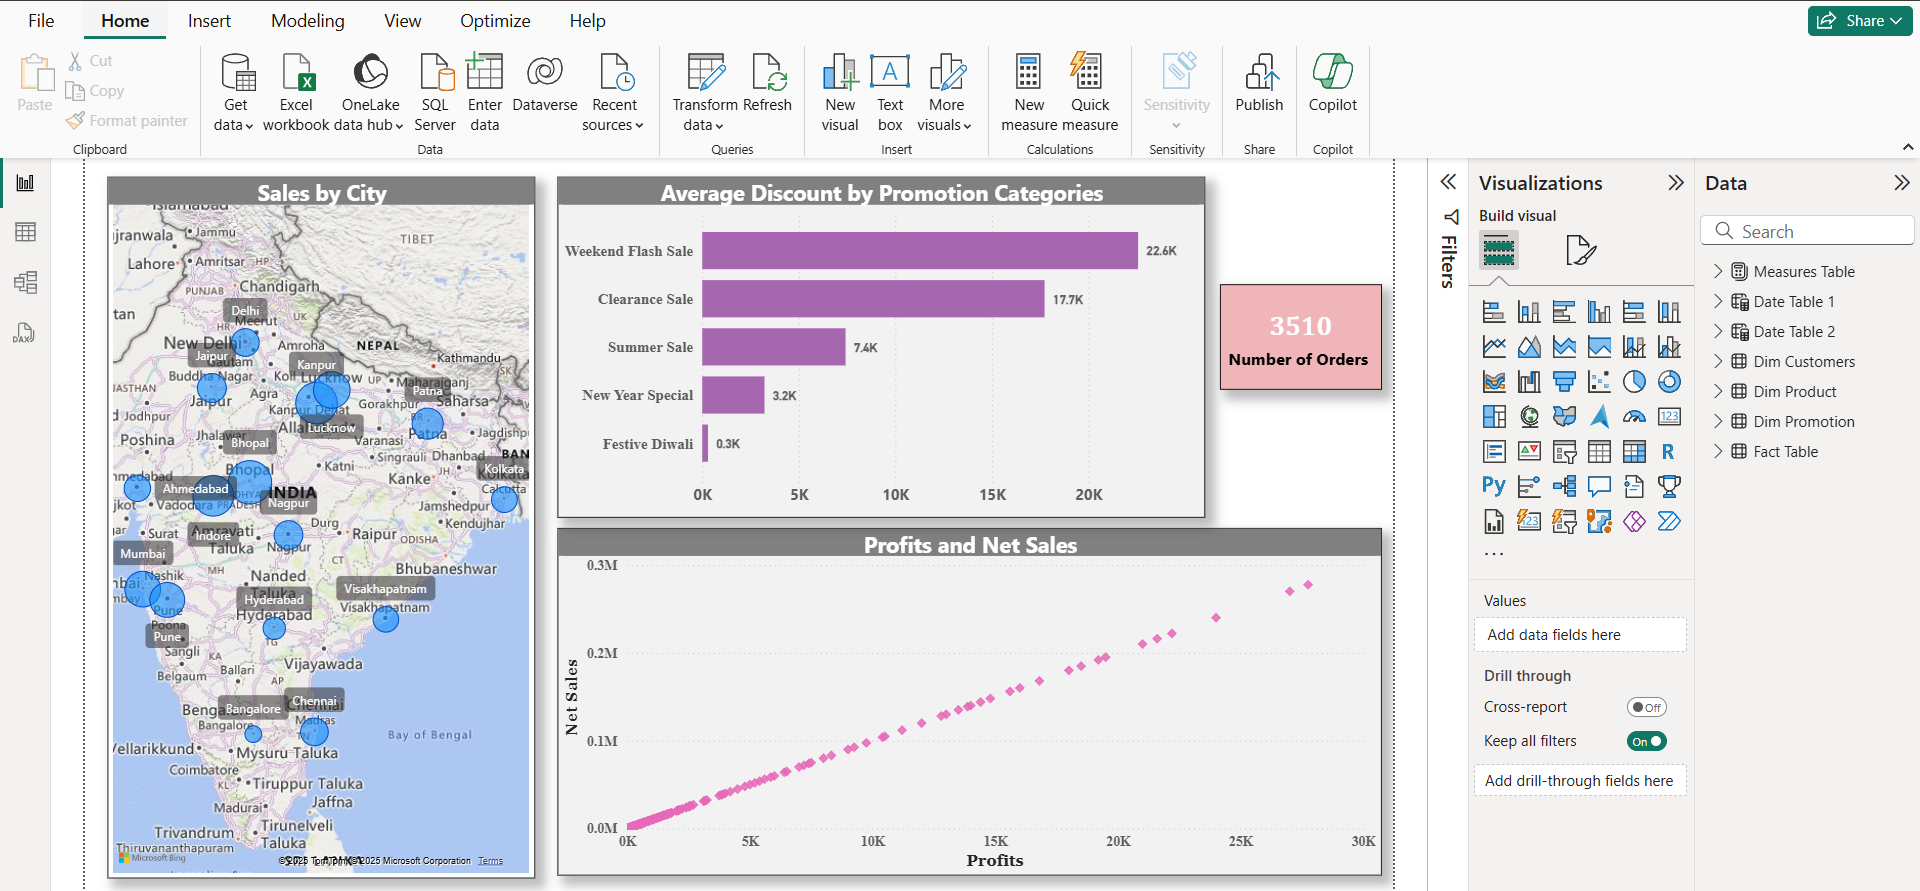

Layout of this report page (visuals, bound fields, positions):
{"tool":"powerbi","page":{"name":"Req 3,5,6,8","canvas":[1280,720],"ordinal":7},"visuals":[{"type":"scatterChart","fields":{"X":["Fact Table.Profits"],"Y":["Fact Table.Net Sales  "]},"box":[461.7,361.7,806.7,340],"z":0},{"type":"barChart","title":"Average Discount by Promotion Categories","fields":{"Category":["Dim Promotion.Promotion Name"],"Y":["Avg(Fact Table.Discount)"]},"box":[461.7,18.3,633.3,333.3],"z":1000},{"type":"map","title":"Sales by City","fields":{"Category":["Dim Customers.City"],"Size":["Sum(Fact Table.Net Sales  )"]},"box":[21.7,18.3,418.3,686.7],"z":2000},{"type":"card","fields":{"Values":["Count(Fact Table.Order ID)"]},"box":[1110,123.3,158.3,103.3],"z":3000}]}

Visuals, with their boxes on the page's 1280x720 design canvas (x1, y1, x2, y2). These are canvas units, not pixel positions in the 1920x891 screenshot, which may show the page scaled, cropped or inside an application window:
scatterChart - Fact Table.Profits x Fact Table.Net Sales  : (462, 362, 1268, 702)
"Average Discount by Promotion Categories" barChart: (462, 18, 1095, 352)
"Sales by City" map: (22, 18, 440, 705)
card - Count(Fact Table.Order ID): (1110, 123, 1268, 227)
